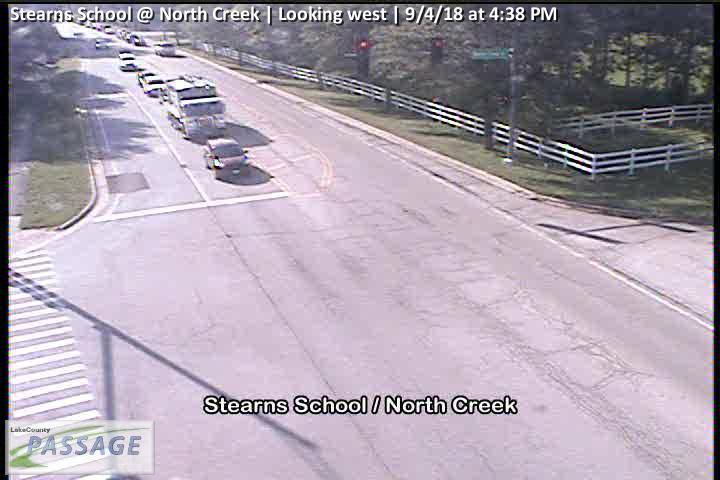SUV: (143, 74, 166, 95), (119, 52, 137, 71), (154, 41, 175, 56)
Sedan: (203, 136, 249, 179), (138, 71, 156, 87)
Truck: (164, 75, 226, 139)
